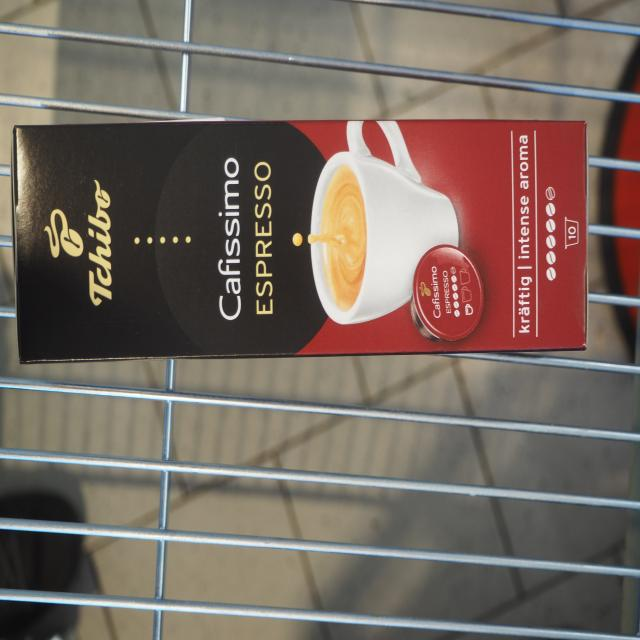Simo Es Kraft: (9, 116, 592, 371)
